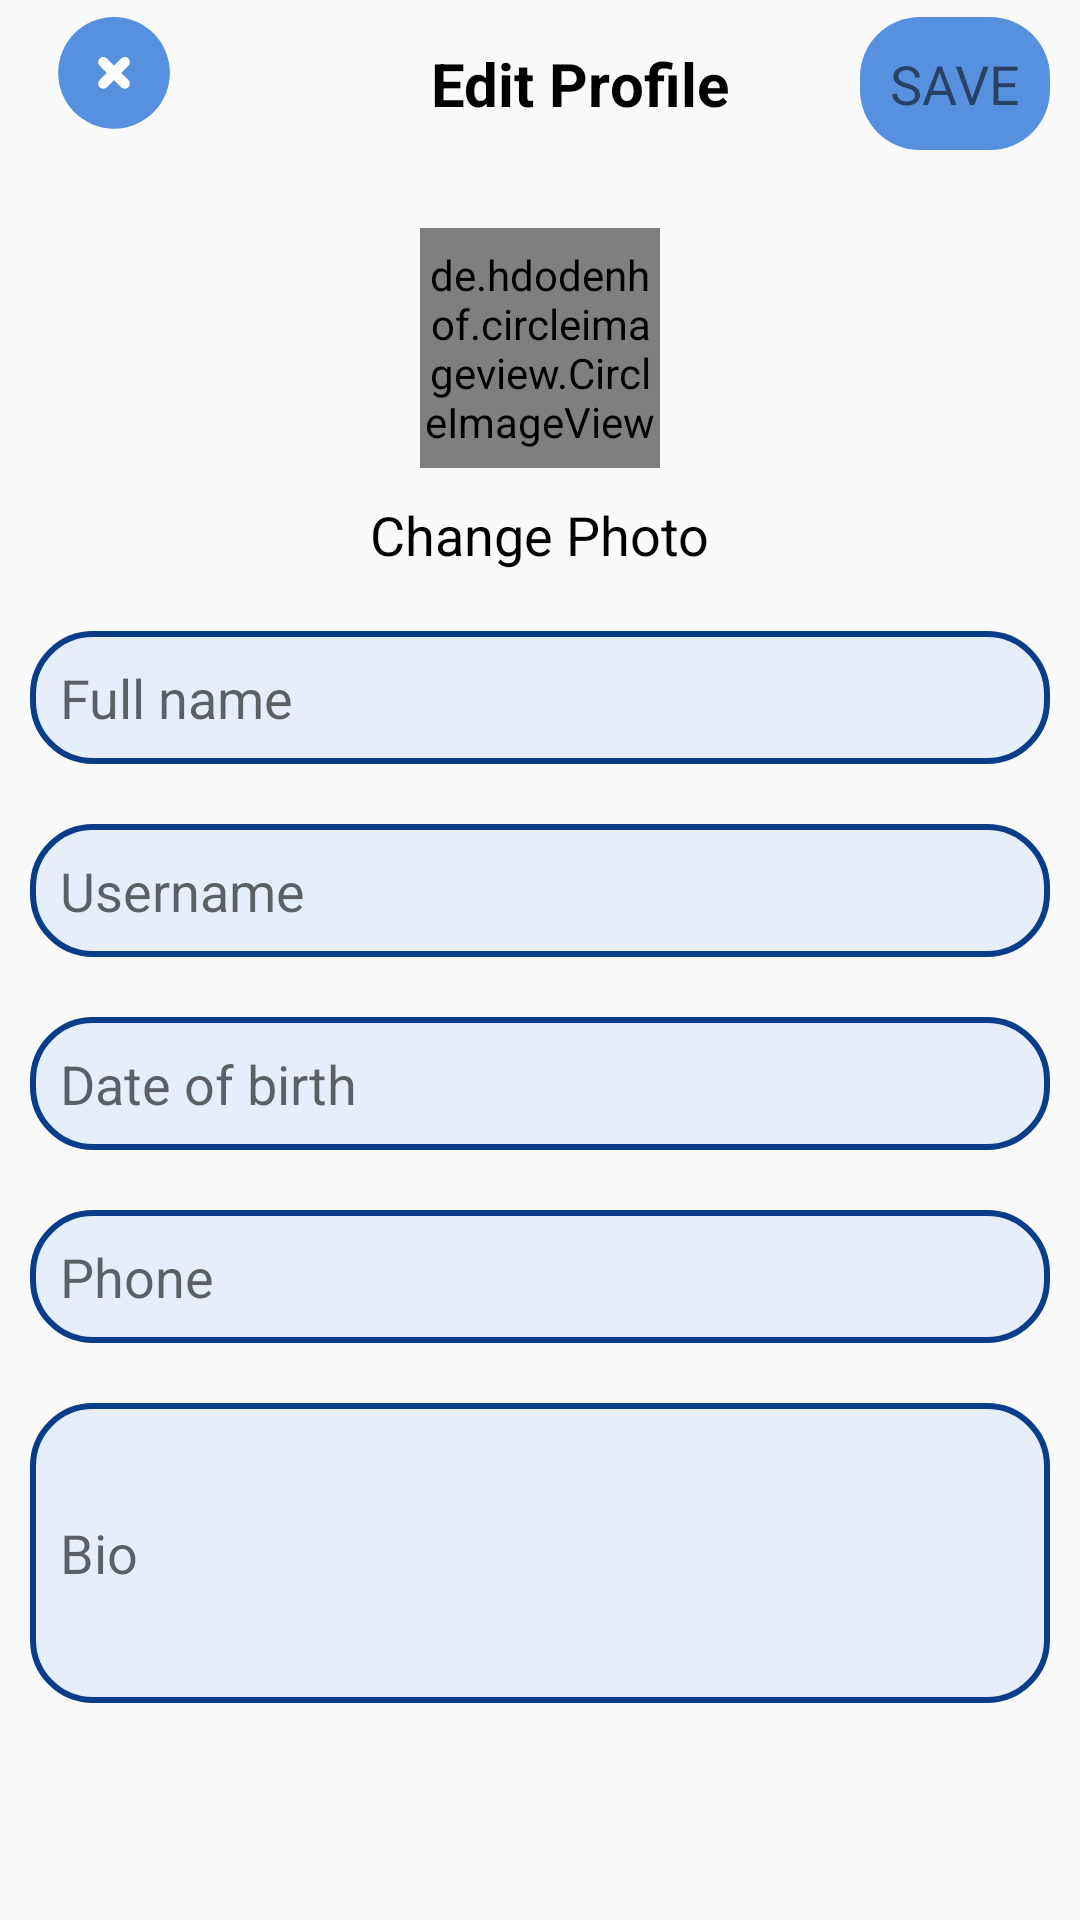

Locate icon controls on the screen. Image size 1080px x 1920px, boxes as (x1, y1, x2, y2).
exit: (58, 17, 170, 129)
